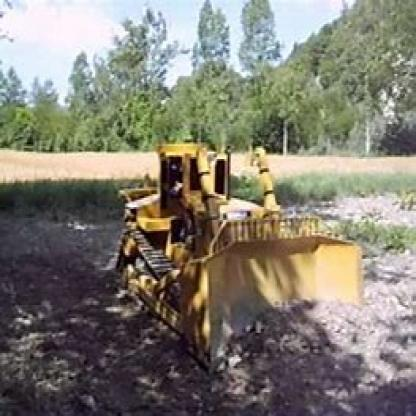bull_dozer/loader/grader: (93, 133, 383, 372)
